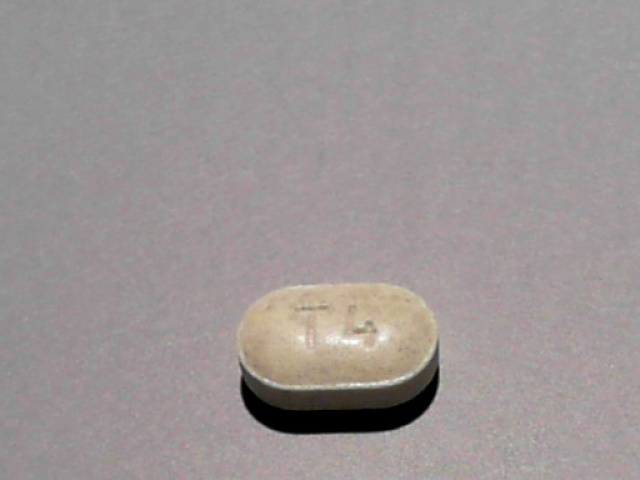4: (336, 301, 390, 357)
T: (289, 301, 339, 357)
